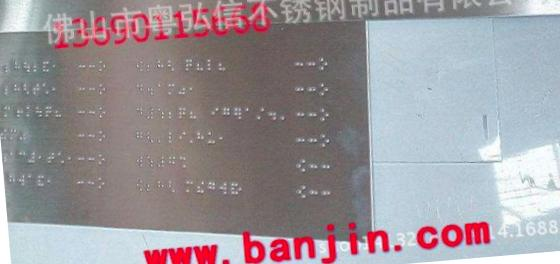Braille: (268, 106, 278, 122), (296, 158, 306, 174), (321, 159, 331, 175), (296, 184, 306, 200), (280, 106, 290, 121), (195, 130, 205, 145), (256, 105, 265, 121), (294, 58, 304, 72), (321, 108, 331, 122), (245, 106, 254, 121), (207, 131, 216, 146), (320, 57, 329, 72), (320, 82, 329, 97), (309, 159, 318, 174), (310, 185, 319, 200), (185, 179, 194, 193), (197, 180, 206, 194), (239, 182, 248, 196), (296, 82, 305, 96), (297, 133, 306, 147), (321, 135, 330, 149), (210, 106, 218, 121), (223, 106, 231, 121), (234, 106, 242, 121), (208, 180, 216, 195), (308, 82, 316, 97), (323, 185, 331, 200), (207, 58, 216, 71), (157, 131, 166, 144), (98, 60, 107, 73), (98, 106, 107, 119), (156, 59, 164, 73), (218, 58, 226, 72), (178, 106, 186, 120), (220, 180, 227, 196), (308, 57, 316, 71), (297, 107, 305, 121), (309, 134, 317, 148), (145, 60, 154, 72), (146, 107, 155, 119), (135, 155, 144, 167), (146, 180, 155, 192), (231, 181, 238, 196), (196, 58, 204, 71), (157, 107, 165, 120), (168, 107, 176, 120), (179, 131, 187, 144), (136, 131, 144, 144), (146, 131, 154, 144), (157, 155, 165, 168), (168, 156, 176, 169), (78, 61, 86, 74), (88, 130, 96, 143), (98, 130, 106, 143), (98, 153, 106, 166), (309, 108, 317, 121), (136, 106, 143, 120), (167, 59, 175, 71), (189, 107, 197, 119), (146, 156, 154, 168), (179, 157, 187, 169), (157, 180, 165, 192), (167, 83, 175, 95), (178, 83, 186, 95), (35, 106, 43, 118), (47, 176, 55, 188), (42, 83, 50, 95), (13, 84, 21, 96), (88, 61, 96, 73), (99, 83, 107, 95), (78, 107, 86, 119), (88, 153, 96, 165), (169, 131, 176, 144), (169, 180, 176, 193), (190, 83, 197, 96), (52, 83, 59, 96), (79, 83, 86, 96), (98, 177, 105, 190), (57, 153, 65, 164), (37, 176, 45, 187), (42, 61, 50, 72), (18, 152, 26, 163), (136, 60, 143, 72), (186, 58, 192, 72), (136, 179, 143, 191), (158, 83, 165, 95), (55, 106, 62, 118), (68, 153, 75, 165), (9, 175, 16, 187), (28, 152, 35, 164), (38, 152, 45, 164), (27, 175, 34, 187), (52, 61, 59, 73), (23, 61, 30, 73), (33, 83, 40, 95), (23, 83, 30, 95), (26, 106, 33, 118), (17, 106, 24, 118), (10, 129, 17, 141), (14, 62, 21, 74), (89, 83, 96, 95), (89, 106, 96, 118), (78, 153, 85, 165), (136, 84, 143, 95), (147, 84, 154, 95), (48, 153, 55, 164), (33, 61, 40, 72), (19, 130, 26, 141), (88, 177, 95, 188), (46, 106, 52, 118), (19, 175, 25, 187), (79, 130, 85, 142), (78, 177, 84, 189)
